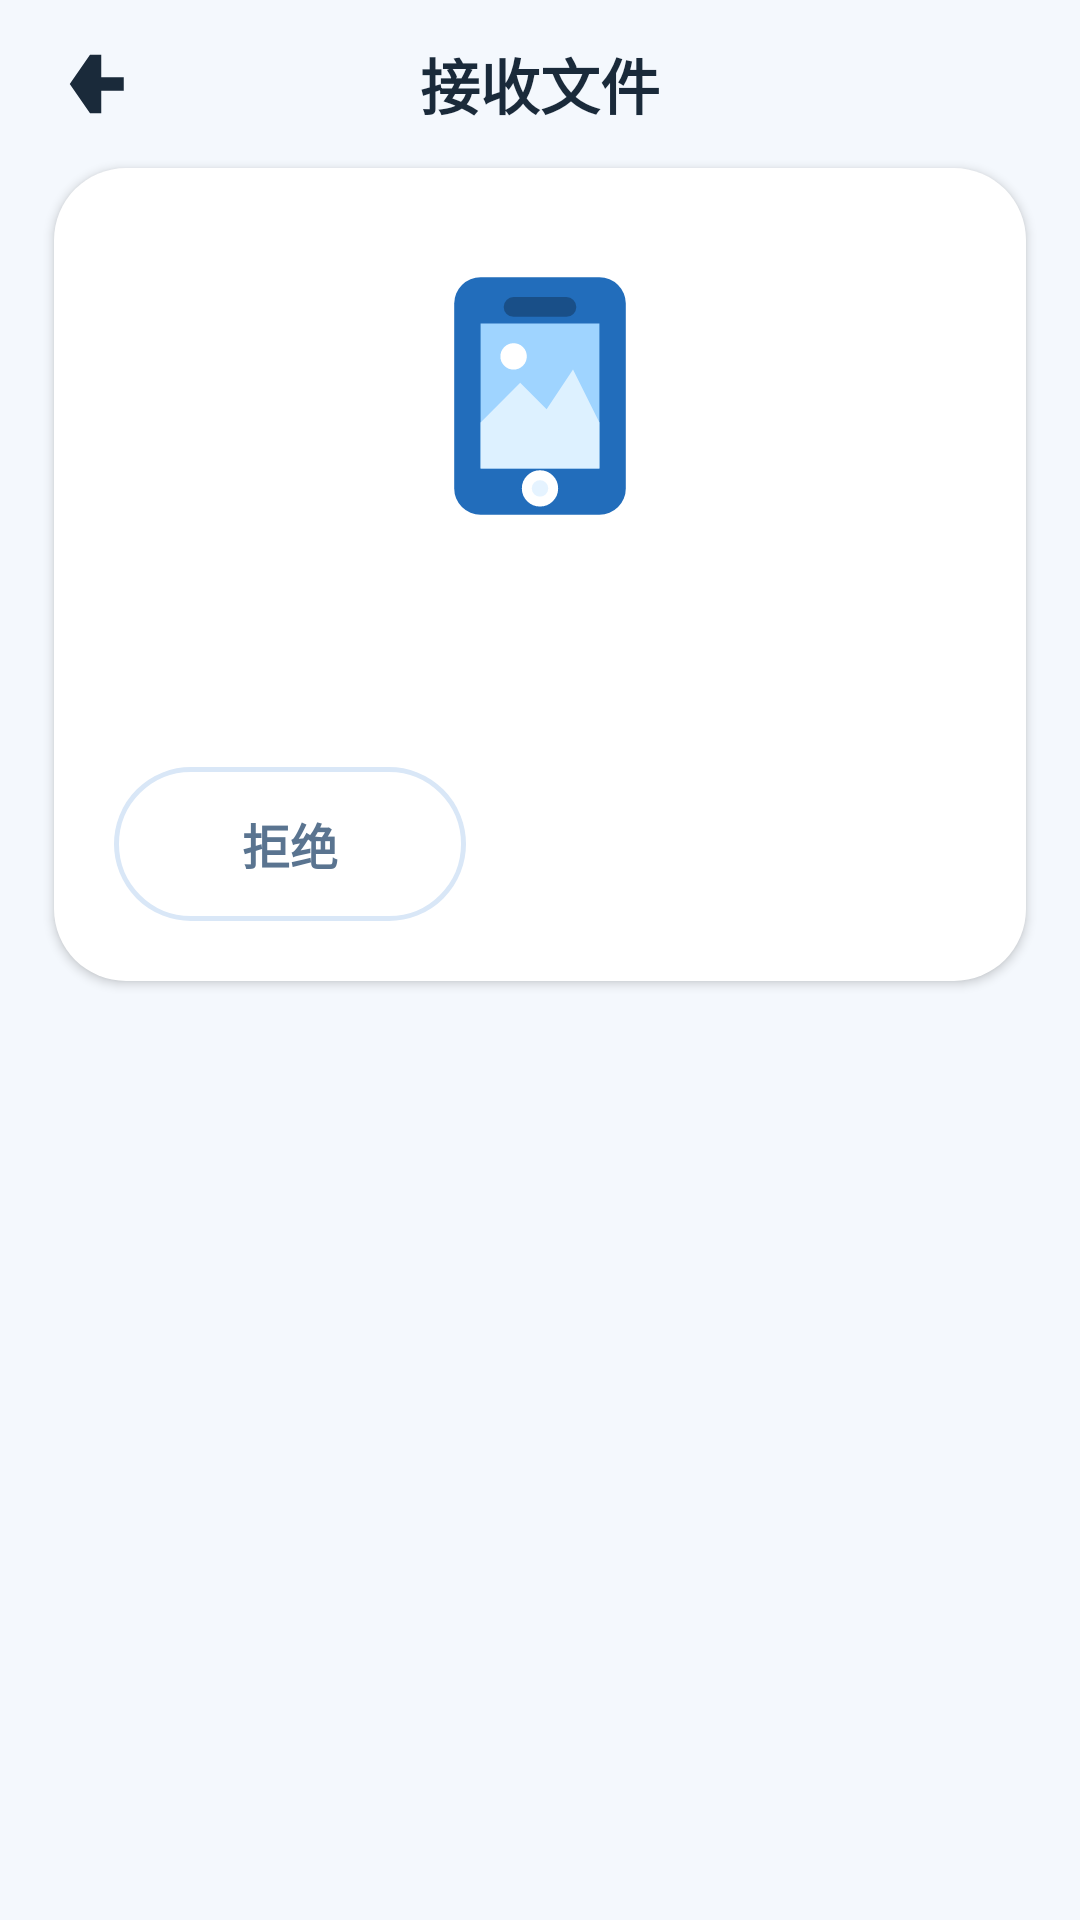

Icons on this 1080px x 1920px Android screen, each with the point to tap as (x,y):
back: (97,84)
phone: (540,396)
